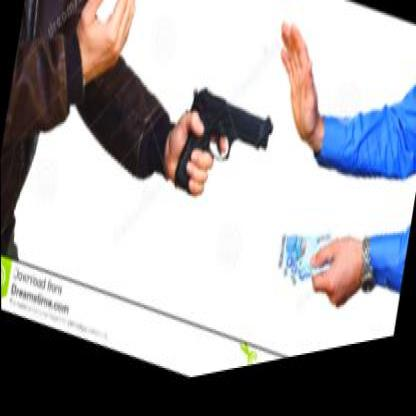pistol: (172, 66, 276, 240)
